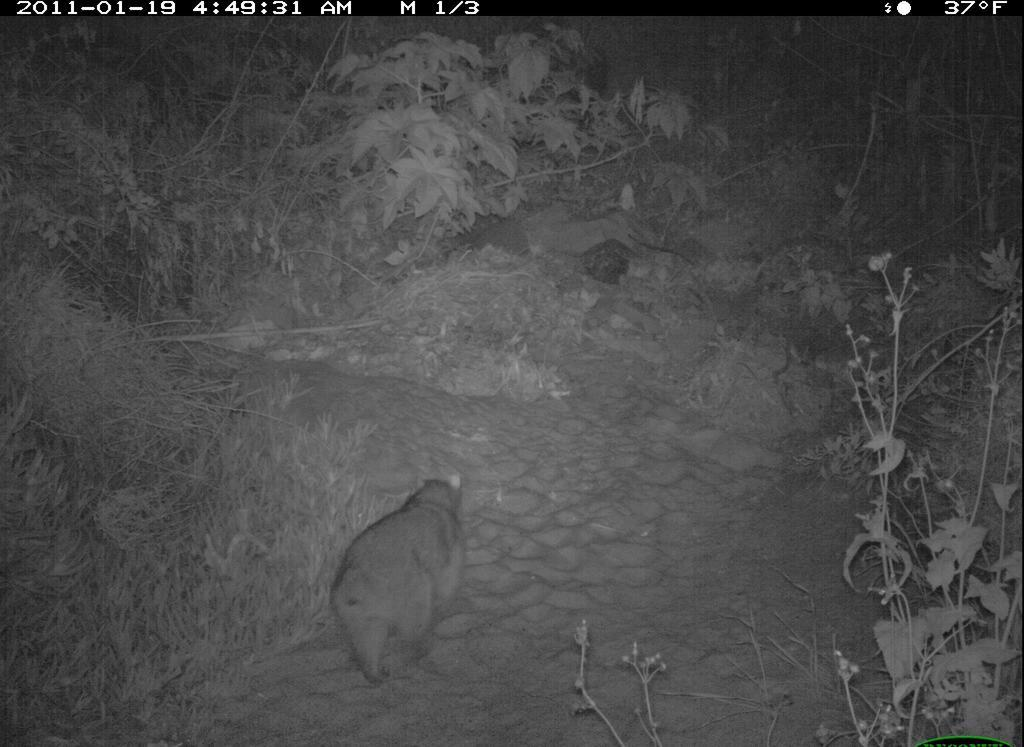raccoon: (319, 470, 469, 694)
